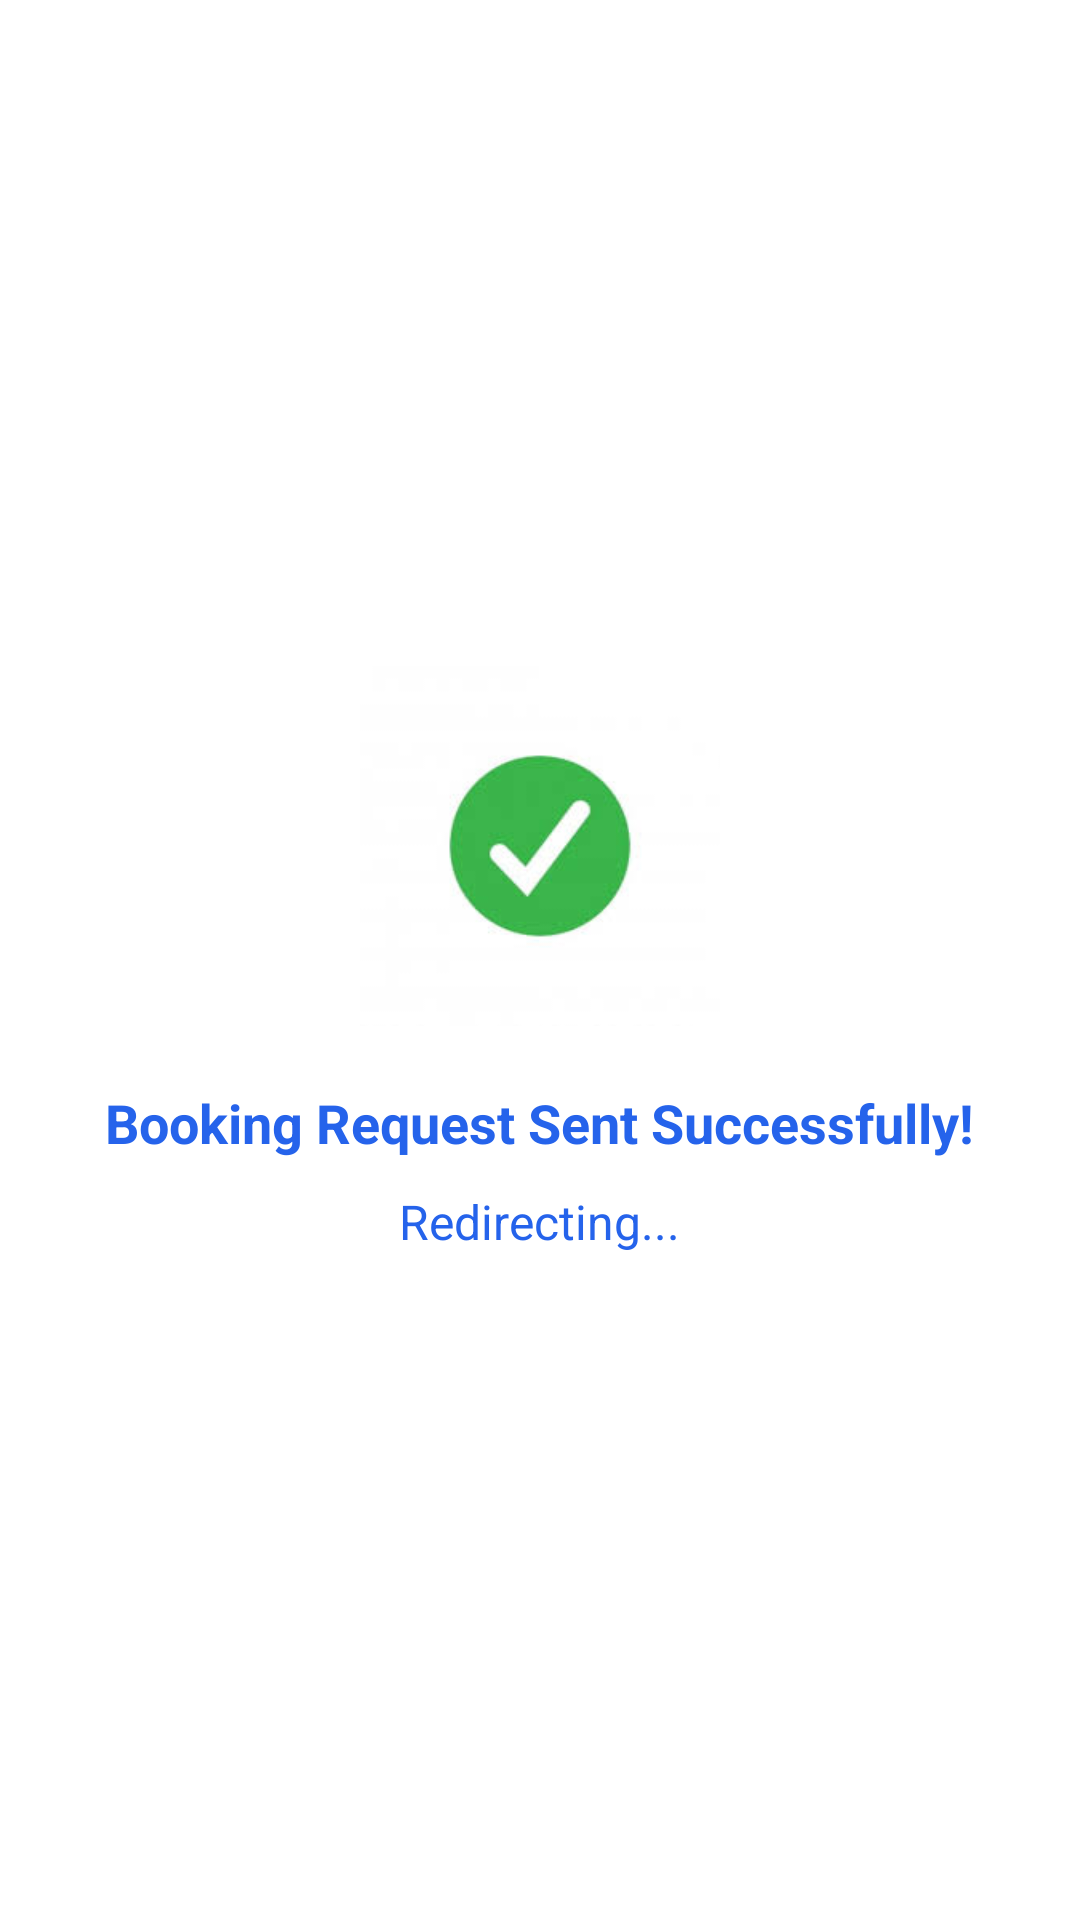

Screen size 1080*1920. Icon name, then its box in pixels as (x1, y1, x2, y2):
Success Image: (449, 755, 631, 937)
